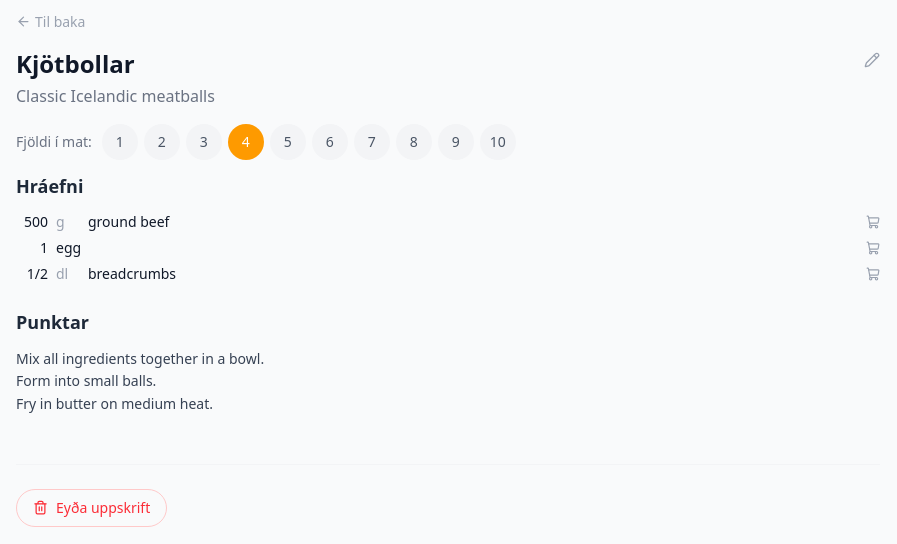
Recipe page › doubles ingredient amounts when servings are doubled
Expected: the heading "Kjötbollar" is shown, [16, 46, 135, 80]
base 4 → select 8 (2× scale): 500g → 1000
What coordinates should you click on to do the following:
click the button "8"
I would click on:
 (414, 142)
Its box is [396, 124, 432, 160].
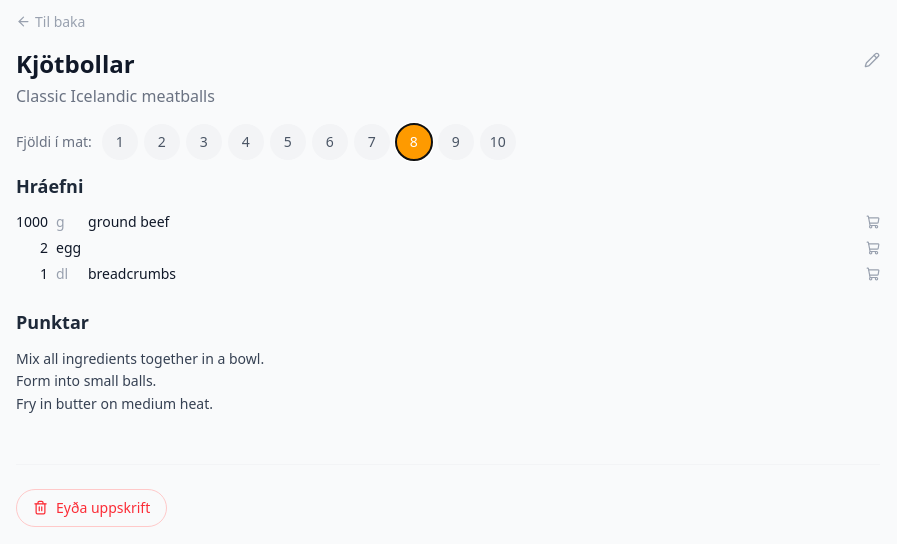
Result: the text "1000" is shown at [16, 212, 48, 232]
